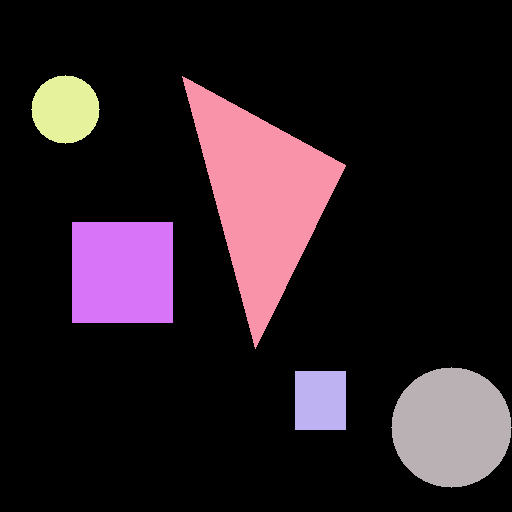circle: (391, 367, 511, 487), (31, 75, 99, 143)
rectangle: (295, 371, 345, 429)
square: (72, 222, 172, 322)
triangle: (182, 76, 345, 348)
